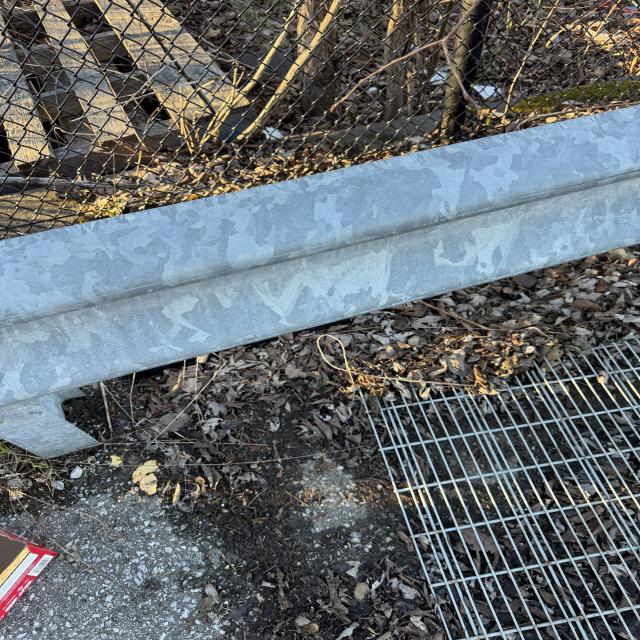Guard rail: (29, 124, 638, 339)
